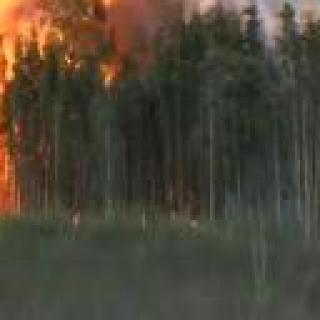fire: (0, 0, 25, 217), (84, 0, 127, 33)
